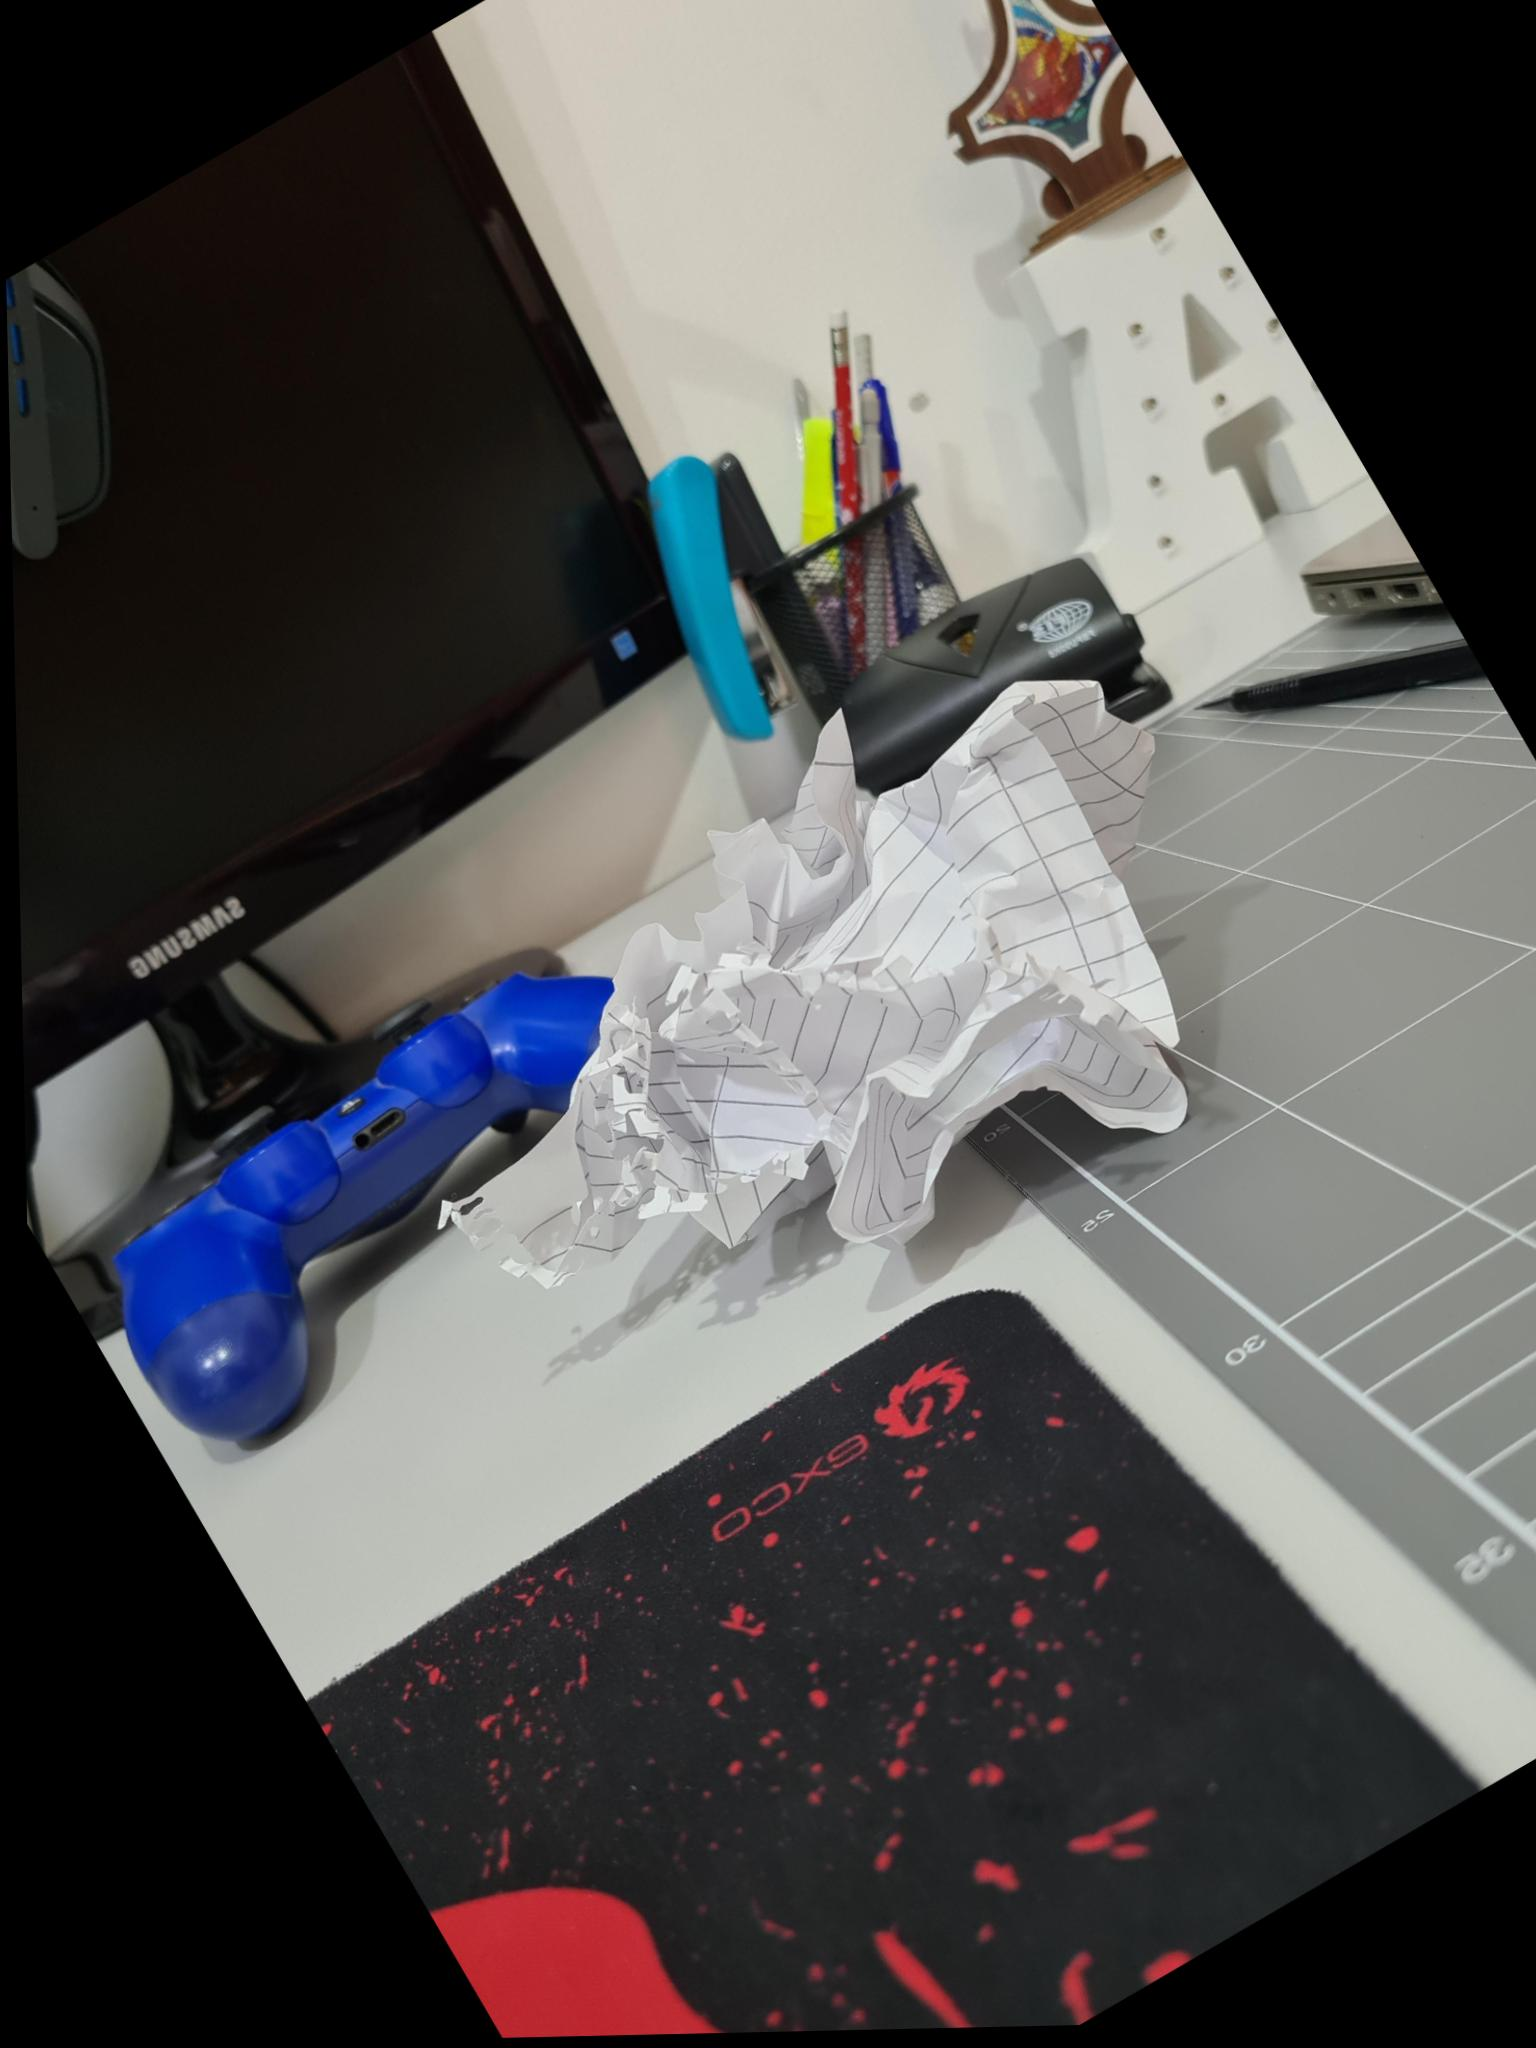paper: (452, 593, 1184, 1284), (73, 821, 771, 1447)
